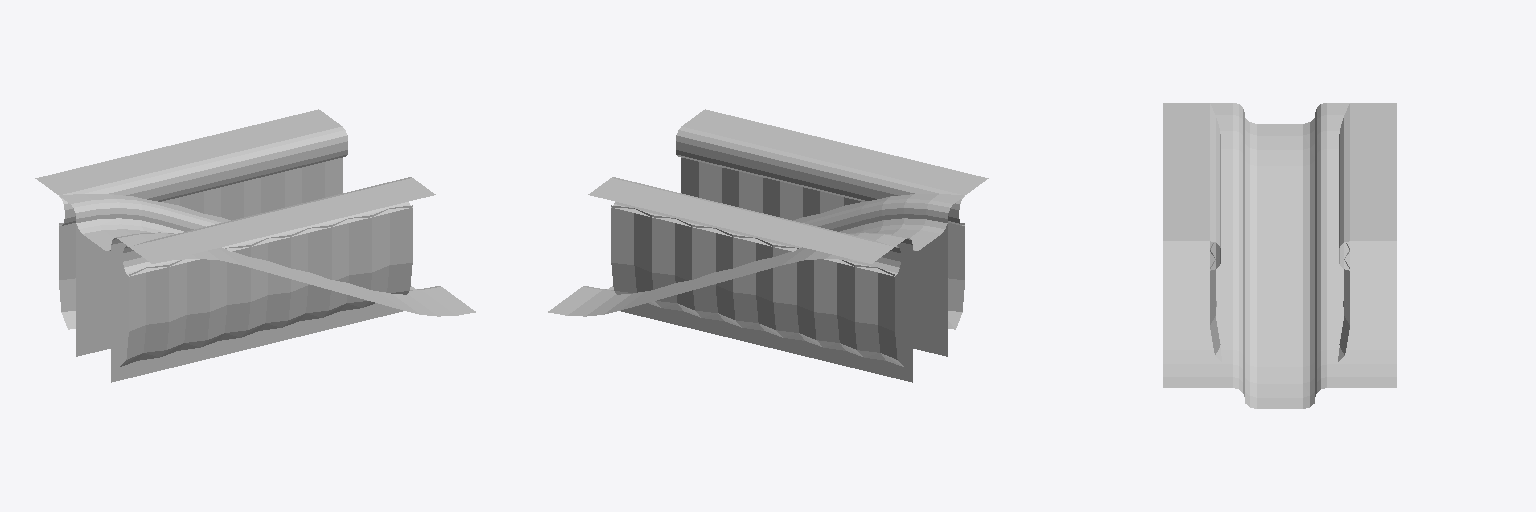
Rendered from Track_Cliff_Incline_Standard_3_Tall_Single.obj.
The picture shows the model from 3 angles: view 1: azimuth 30°, elevation 25°; view 2: azimuth 150°, elevation 25°; view 3: azimuth 270°, elevation 25°; orthographic projection.
Visible parts, largest first — view 1: Grass, Rock, Dirt; view 2: Grass, Rock, Dirt; view 3: Grass, Dirt, Rock.
Part boxes in pixels (left/top/right/bottom): Grass: left=35, top=109, right=475, bottom=382; Rock: left=59, top=158, right=412, bottom=366; Dirt: left=76, top=218, right=416, bottom=289; Grass: left=548, top=109, right=988, bottom=382; Rock: left=611, top=158, right=964, bottom=366; Dirt: left=607, top=218, right=947, bottom=289; Grass: left=1163, top=103, right=1396, bottom=396; Dirt: left=1245, top=118, right=1314, bottom=408; Rock: left=1210, top=243, right=1349, bottom=361.
Size of the model in its own units: 8 by 3.5 by 5.